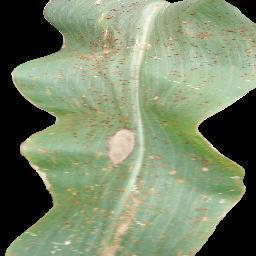Corn_Common_Rust: (4, 170, 161, 256), (161, 119, 250, 256), (147, 59, 256, 118), (173, 6, 256, 59), (17, 122, 99, 169), (70, 74, 135, 123), (74, 25, 124, 74), (99, 124, 143, 169), (57, 1, 75, 72), (122, 34, 174, 58), (89, 0, 147, 20), (44, 72, 68, 99), (29, 69, 41, 89)
